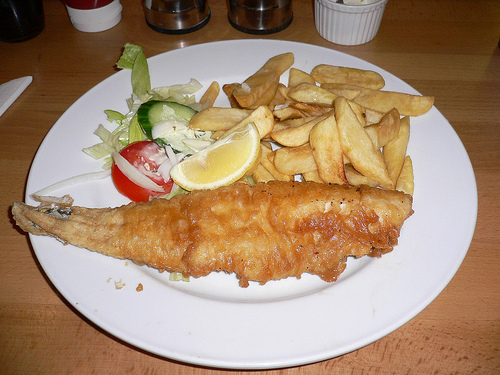fish: (6, 177, 418, 291)
